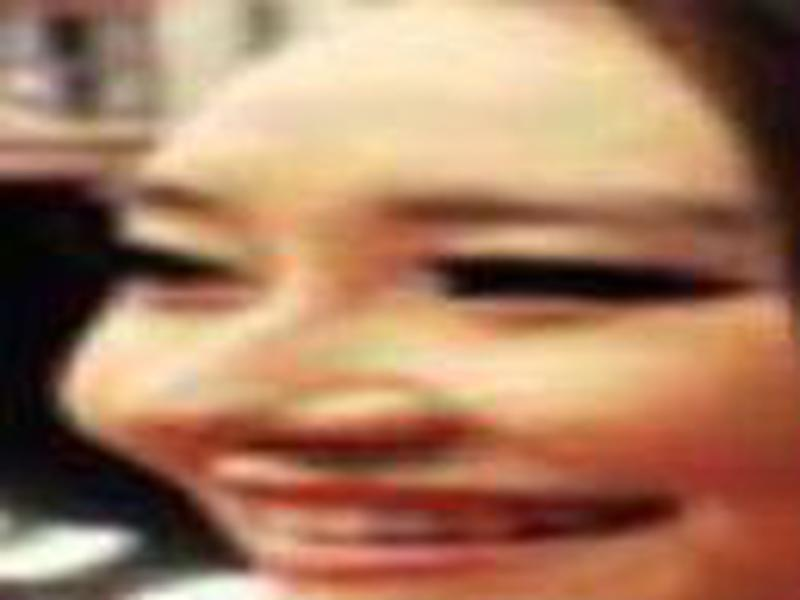without_mask: (51, 12, 800, 600)
